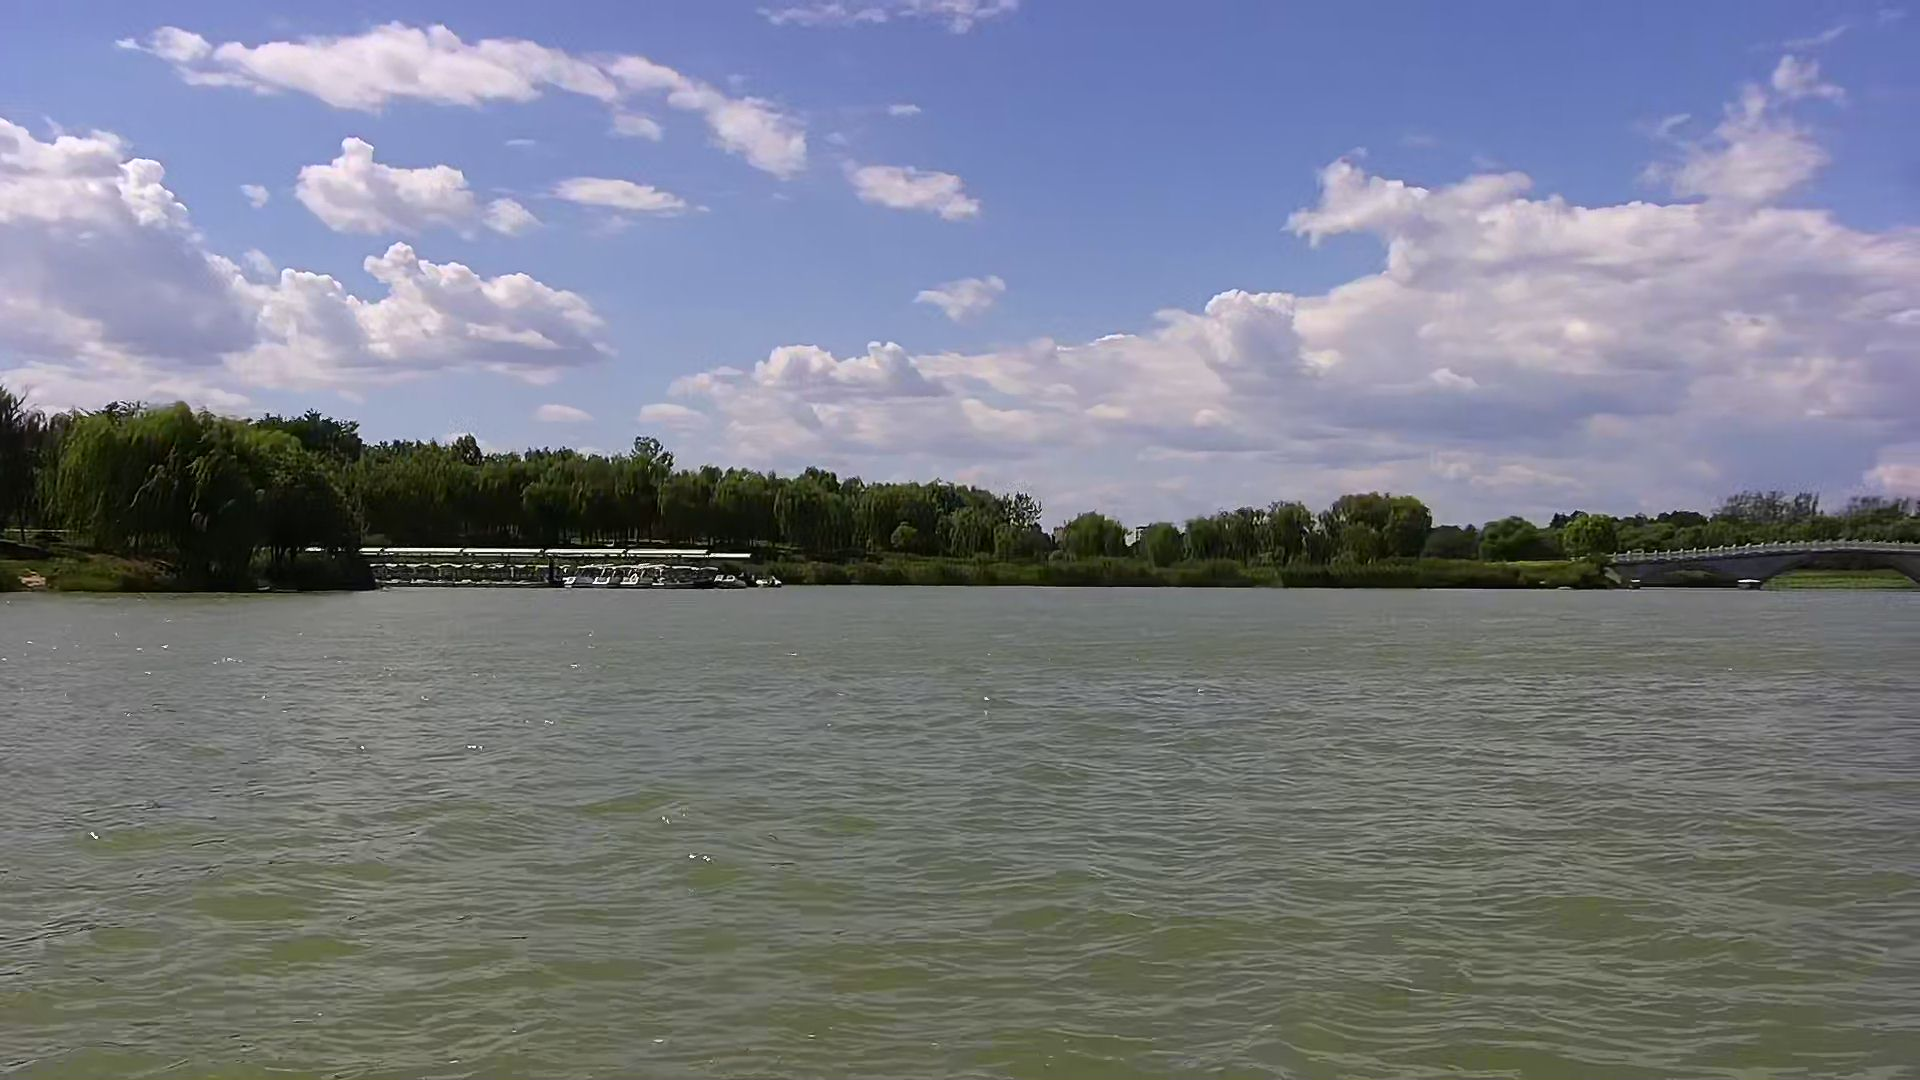bridge: (1596, 534, 1920, 588)
harbor: (369, 549, 777, 593)
